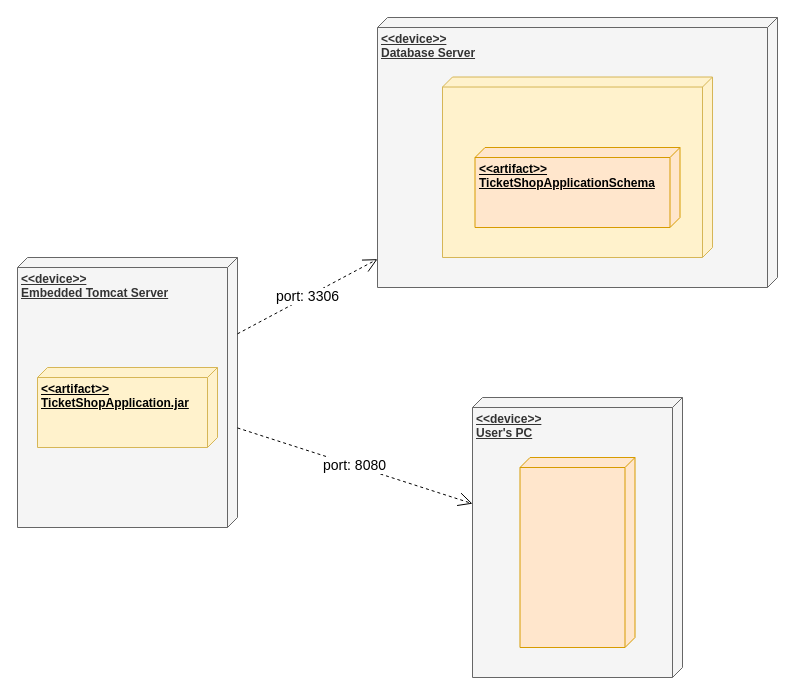
The diagram is 795 pixels wide and 695 high, and some of its shapes have lost their labels. Each missing label, with the box of its shape:
<<database system>> MySQL: (442, 76, 712, 258)
<<device>> Web Browser: (519, 456, 635, 648)
